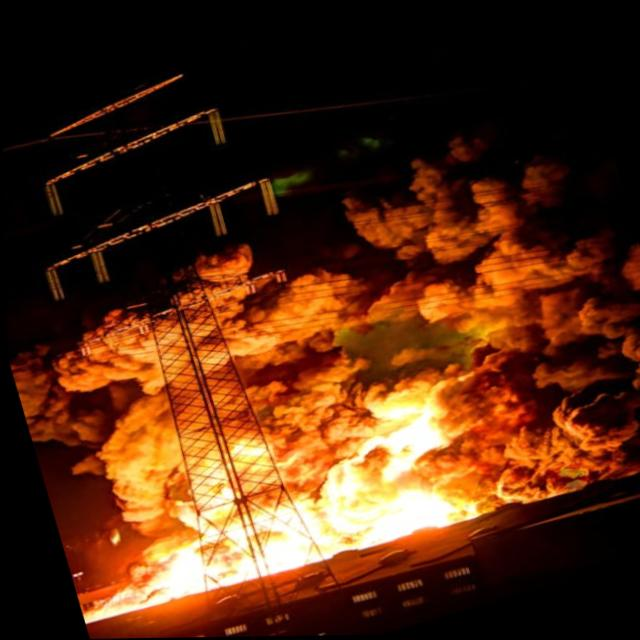Fire: (2, 109, 640, 630)
